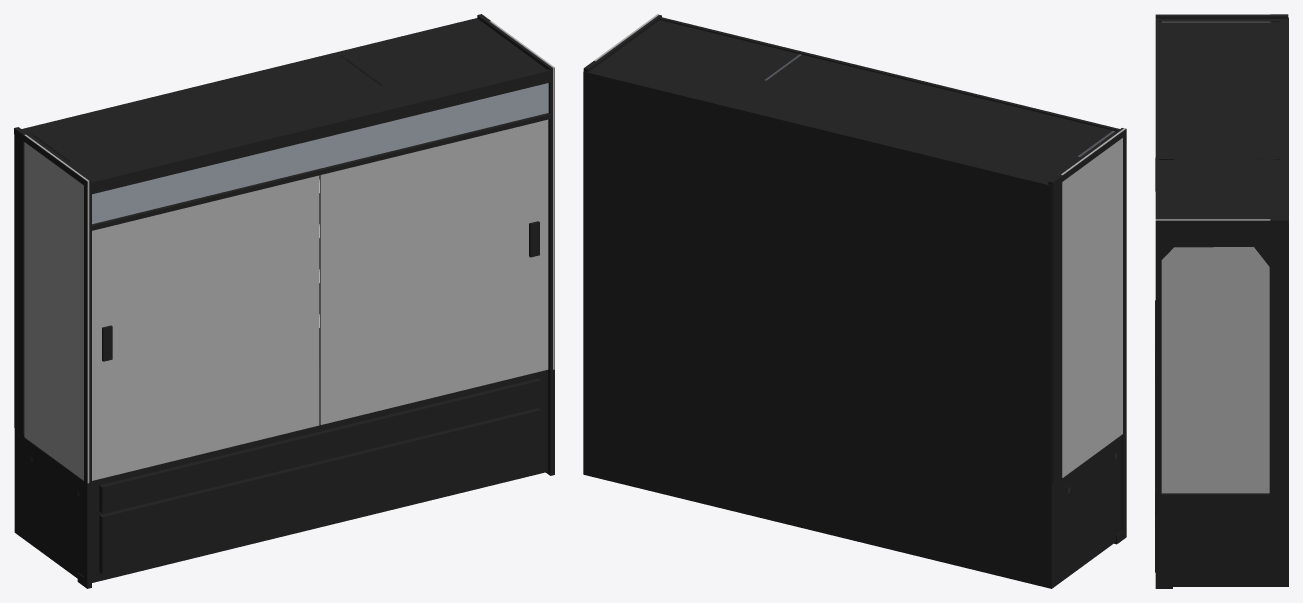
Rendered from Fridge.fbx.
The picture shows the model from 3 angles, left to right: view 1: azimuth 30°, elevation 25°; view 2: azimuth 150°, elevation 25°; view 3: azimuth 270°, elevation 25°; orthographic projection. The views are drawn at different scales.
Visible parts, largest first — view 1: Fridge; view 2: Fridge; view 3: Fridge.
Boxes of the visible parts, box(x1,y1,x2,y2) form: Fridge: box(14, 14, 554, 588); Fridge: box(583, 14, 1126, 588); Fridge: box(1155, 14, 1288, 588).
Size of the model in its own units: 90.51 by 75.39 by 24.8.
2 materials, 2 textured.
